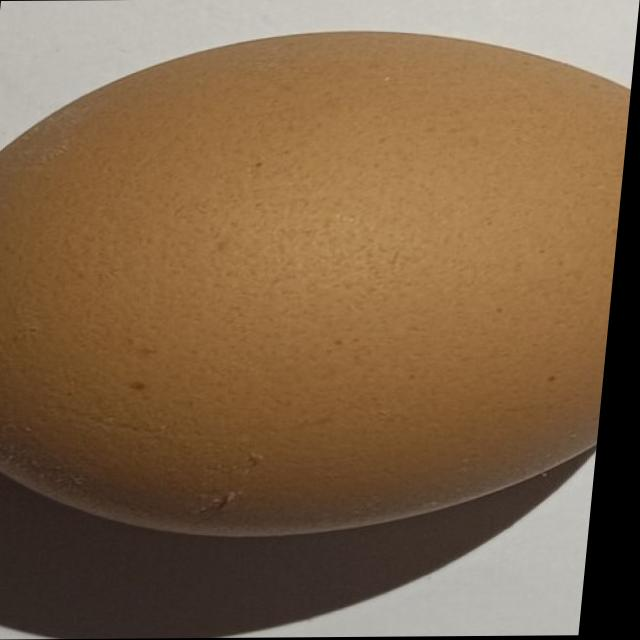fresh: (0, 27, 638, 534)
